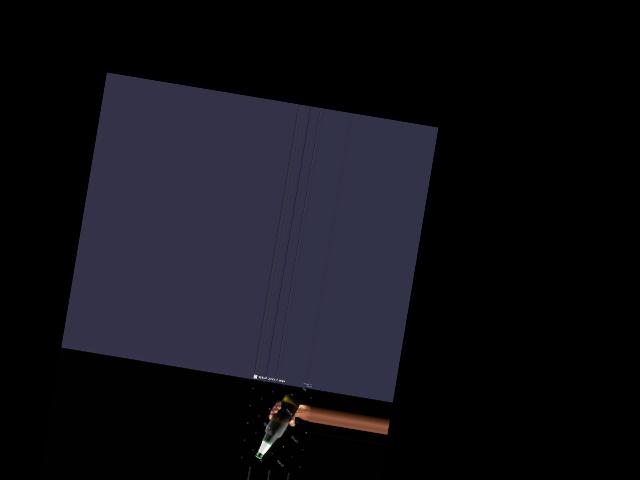beer: (254, 390, 301, 464)
